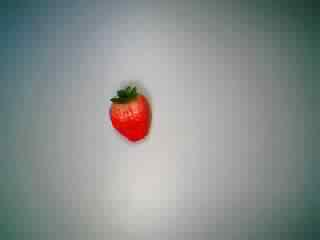strawberry: (97, 80, 165, 144)
